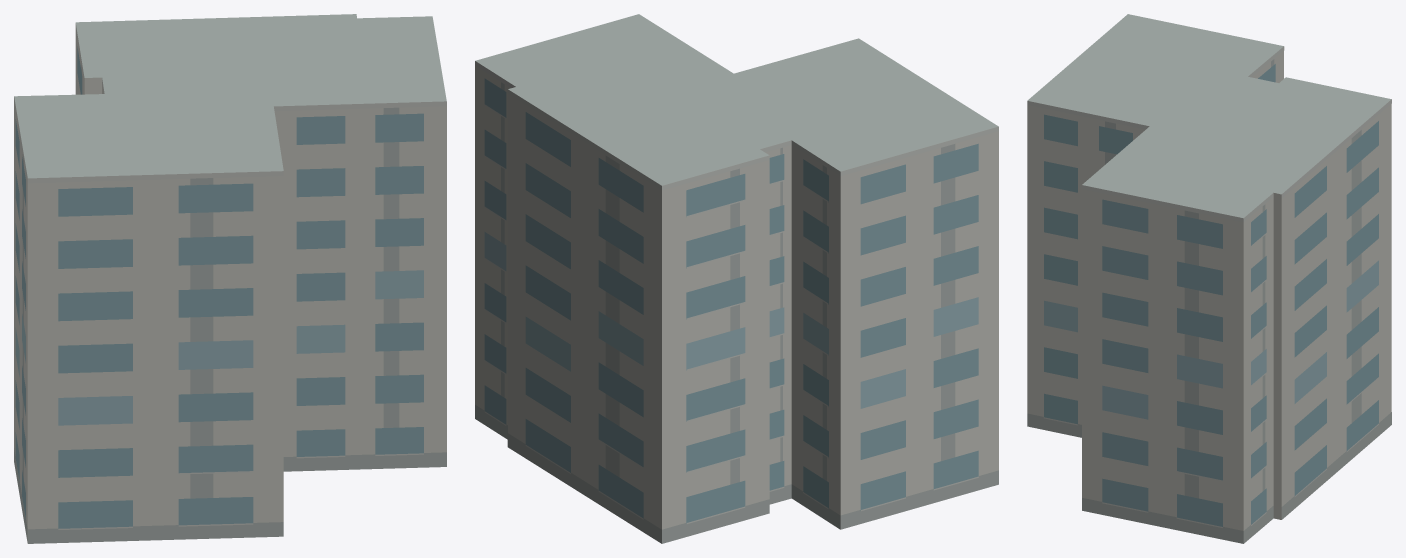
File: survey-upis-32844479.glb
3 renders of one model, left to right at view 1: azimuth 30°, elevation 25°; view 2: azimuth 150°, elevation 25°; view 3: azimuth 270°, elevation 25°, orthographic. The views are drawn at different scales.
Visible parts, largest first — view 1: survey-upis-32844479.tmp; view 2: survey-upis-32844479.tmp; view 3: survey-upis-32844479.tmp.
Boxes of the visible parts, x1,y1,x2,y2 form: survey-upis-32844479.tmp: (14, 14, 446, 543); survey-upis-32844479.tmp: (475, 14, 998, 543); survey-upis-32844479.tmp: (1027, 14, 1391, 543).
Size of the model in its own units: 24.49 by 18.2 by 18.47.
